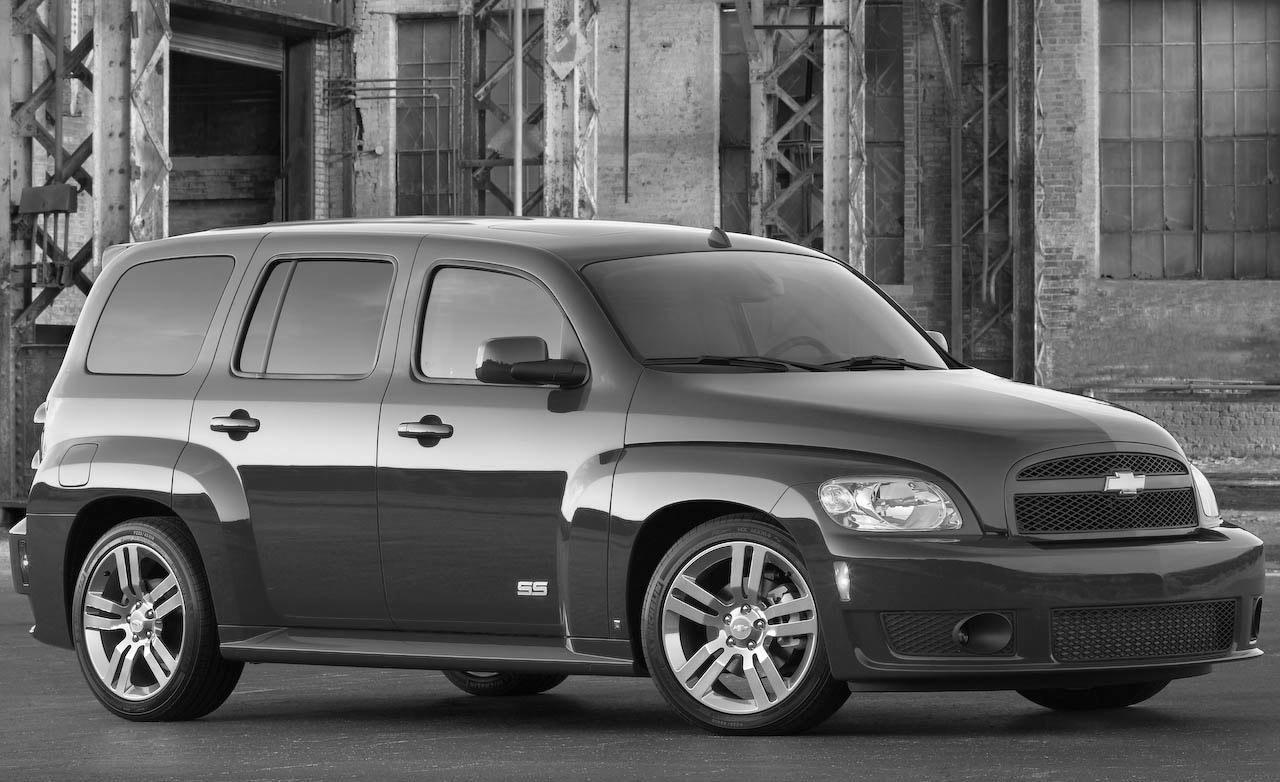car: (9, 220, 1262, 740)
